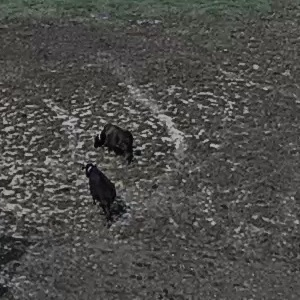cow: (67, 158, 147, 225), (91, 112, 147, 158)
